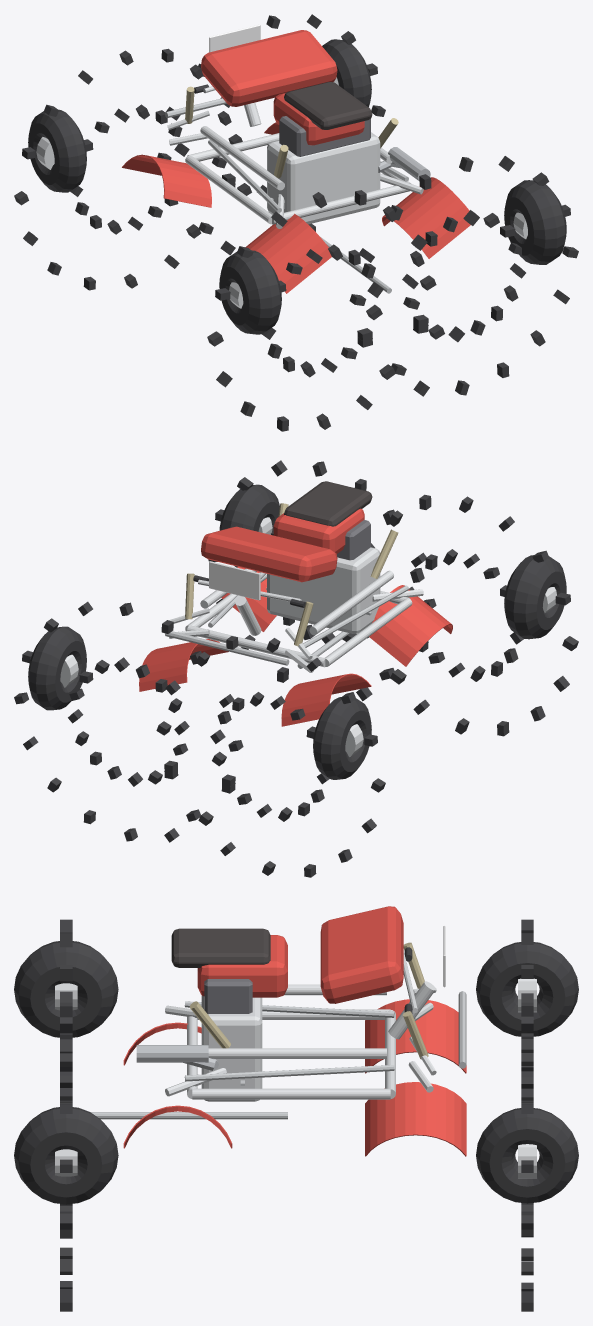
The model's file is atv450.glb.
The picture shows the model from 3 angles, top to bottom: view 1: azimuth 30°, elevation 25°; view 2: azimuth 150°, elevation 25°; view 3: azimuth 270°, elevation 25°; orthographic projection. The views are drawn at different scales.
Visible parts, largest first — view 1: b_hood, b_engine, b_wheel_rr_tire, b_wheel_rl_tire, b_wheel_fl_tire, b_rfender_1, b_rfender_-1, b_seat, b_ffender_-1, b_wheel_rr, b_wheel_rl, b_wheel_fr_tire (+11 smaller); view 2: b_engine, b_hood, b_wheel_rl_tire, b_wheel_fr_tire, b_wheel_fl_tire, b_rfender_-1, b_seat, b_ffender_-1, b_wheel_fr, b_tank, b_wheel_rr_tire, b_ffender_1 (+11 smaller); view 3: b_wheel_rr_tire, b_hood, b_wheel_fr_tire, b_wheel_rl_tire, b_wheel_fl_tire, b_ffender_1, b_seat, b_engine, b_ffender_-1, b_tank, b_rail_1, b_wheel_rr (+14 smaller).
Boxes of the visible parts, bbox=[...] form: b_hood: bbox=[201, 30, 337, 106]; b_engine: bbox=[267, 132, 380, 224]; b_wheel_rr_tire: bbox=[504, 180, 566, 264]; b_wheel_rl_tire: bbox=[219, 250, 281, 334]; b_wheel_fl_tire: bbox=[28, 109, 86, 192]; b_rfender_1: bbox=[382, 177, 470, 258]; b_rfender_-1: bbox=[245, 213, 331, 293]; b_seat: bbox=[284, 82, 372, 129]; b_ffender_-1: bbox=[122, 154, 211, 207]; b_wheel_rr: bbox=[349, 156, 578, 396]; b_wheel_rl: bbox=[262, 244, 383, 377]; b_wheel_fr_tire: bbox=[322, 39, 371, 107]; b_engine: bbox=[267, 547, 380, 633]; b_hood: bbox=[201, 526, 337, 582]; b_wheel_rl_tire: bbox=[504, 555, 566, 639]; b_wheel_fr_tire: bbox=[28, 626, 86, 710]; b_wheel_fl_tire: bbox=[313, 697, 371, 779]; b_rfender_-1: bbox=[369, 585, 452, 666]; b_seat: bbox=[284, 481, 372, 526]; b_ffender_-1: bbox=[281, 673, 371, 726]; b_wheel_fr: bbox=[14, 601, 243, 842]; b_tank: bbox=[273, 508, 364, 553]; b_wheel_rr_tire: bbox=[219, 484, 279, 567]; b_ffender_1: bbox=[139, 638, 228, 691]; b_wheel_rr_tire: bbox=[14, 1107, 118, 1204]; b_hood: bbox=[320, 906, 403, 1003]; b_wheel_fr_tire: bbox=[476, 1108, 578, 1203]; b_wheel_rl_tire: bbox=[14, 941, 118, 1037]; b_wheel_fl_tire: bbox=[476, 942, 578, 1036]; b_ffender_1: bbox=[365, 1082, 466, 1156]; b_seat: bbox=[171, 928, 270, 967]; b_engine: bbox=[201, 995, 262, 1101]; b_ffender_-1: bbox=[365, 999, 466, 1073]; b_tank: bbox=[197, 935, 287, 997]; b_rail_1: bbox=[192, 1088, 390, 1099]; b_wheel_rr: bbox=[60, 1002, 72, 1311].
Bounding box in the file's own units: 2.81 × 1.97 × 3.14.
